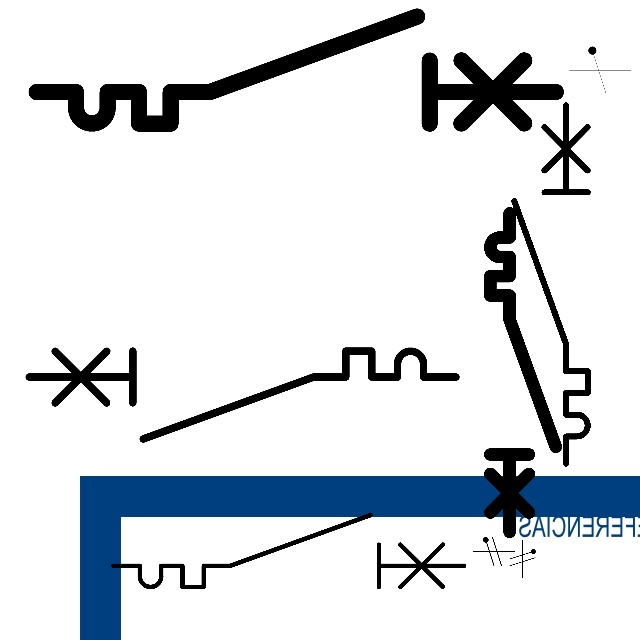interruptor_termomagnetico: (23, 3, 569, 137), (18, 340, 467, 450), (505, 96, 597, 473), (104, 506, 473, 596), (482, 205, 564, 540)
